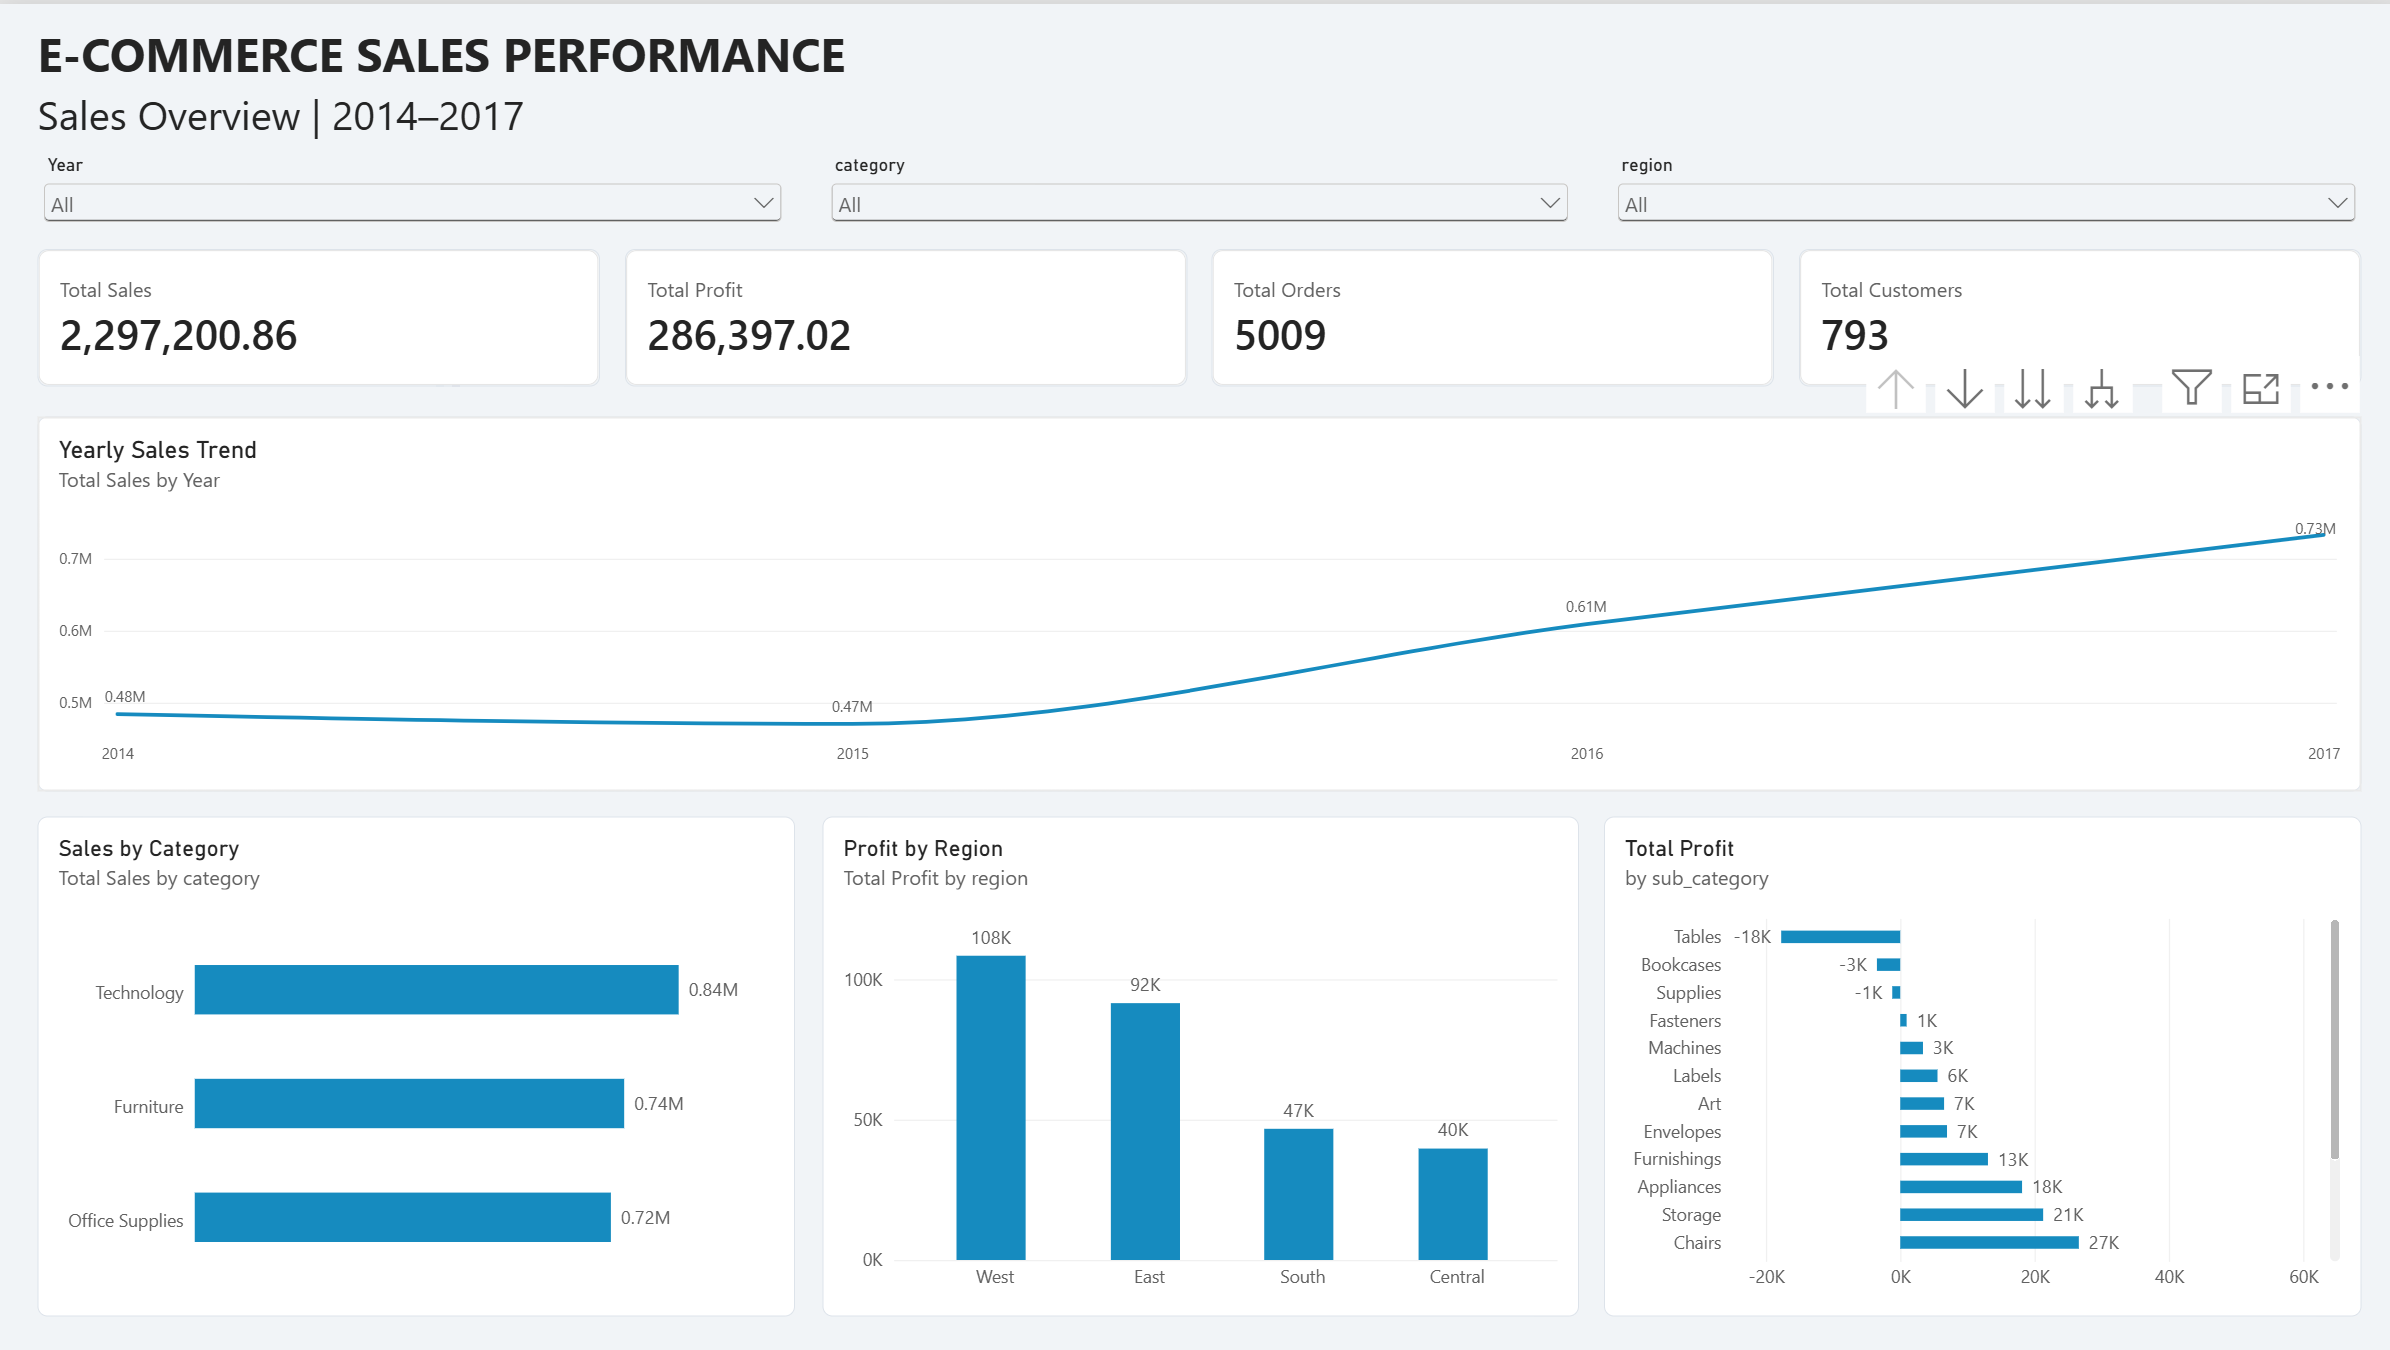

This screenshot's page, from the dashboard's own definition file:
{"tool":"powerbi","page":{"name":"Sales Overview","canvas":[1920,1080],"ordinal":0},"visuals":[{"type":"cardVisual","fields":{"Data":["public superstore.Total Sales"]},"box":[30,195,450,110],"z":0},{"type":"cardVisual","fields":{"Data":["public superstore.Total Profit"]},"box":[500,195,450,110],"z":1000},{"type":"cardVisual","fields":{"Data":["public superstore.Total Customers"]},"box":[1440,195,450,110],"z":2000},{"type":"cardVisual","fields":{"Data":["public superstore.Total Orders"]},"box":[970,195,450,110],"z":3000},{"type":"clusteredBarChart","title":"Sales by Category","fields":{"Category":["public superstore.category"],"Y":["public superstore.Total Sales"]},"box":[30,650,606,400],"z":4000},{"type":"clusteredColumnChart","title":"Profit by Region","fields":{"Category":["public superstore.region"],"Y":["public superstore.Total Profit"]},"box":[657,650,606,400],"z":5000},{"type":"lineChart","title":"Yearly Sales Trend","fields":{"Category":["public superstore.order_date.Variation.Date Hierarchy.Year","public superstore.order_date.Variation.Date Hierarchy.Month"],"Y":["public superstore.Total Sales"]},"box":[30,330,1860,300],"z":6000},{"type":"clusteredBarChart","fields":{"Category":["public superstore.sub_category"],"Y":["public superstore.Total Profit"]},"box":[1284,650,606,400],"z":7000},{"type":"slicer","fields":{"Values":["public superstore.order_date.Variation.Date Hierarchy.Year"]},"box":[30,120,600,55],"z":8000},{"type":"slicer","fields":{"Values":["public superstore.region"]},"box":[1290,120,600,55],"z":9000},{"type":"slicer","fields":{"Values":["public superstore.category"]},"box":[660,120,600,55],"z":10000},{"type":"textbox","box":[30.9,14.4,804.8,59.7],"z":11000},{"type":"textbox","box":[30,65,1860,44],"z":12000}]}

Visuals, with their boxes in screenshot pixels (x1, y1, x2, y2), scaled from the page's 1920x1080 canvas onto the 2390x1350 screenshot:
cardVisual - public superstore.Total Sales: (37,244,598,381)
cardVisual - public superstore.Total Profit: (622,244,1183,381)
cardVisual - public superstore.Total Customers: (1792,244,2353,381)
cardVisual - public superstore.Total Orders: (1207,244,1768,381)
"Sales by Category" clusteredBarChart: (37,812,792,1312)
"Profit by Region" clusteredColumnChart: (818,812,1572,1312)
"Yearly Sales Trend" lineChart: (37,412,2353,788)
clusteredBarChart - public superstore.sub_category x public superstore.Total Profit: (1598,812,2353,1312)
slicer - public superstore.order_date.Variation.Date Hierarchy.Year: (37,150,784,219)
slicer - public superstore.region: (1606,150,2353,219)
slicer - public superstore.category: (822,150,1568,219)
textbox: (38,18,1040,93)
textbox: (37,81,2353,136)
